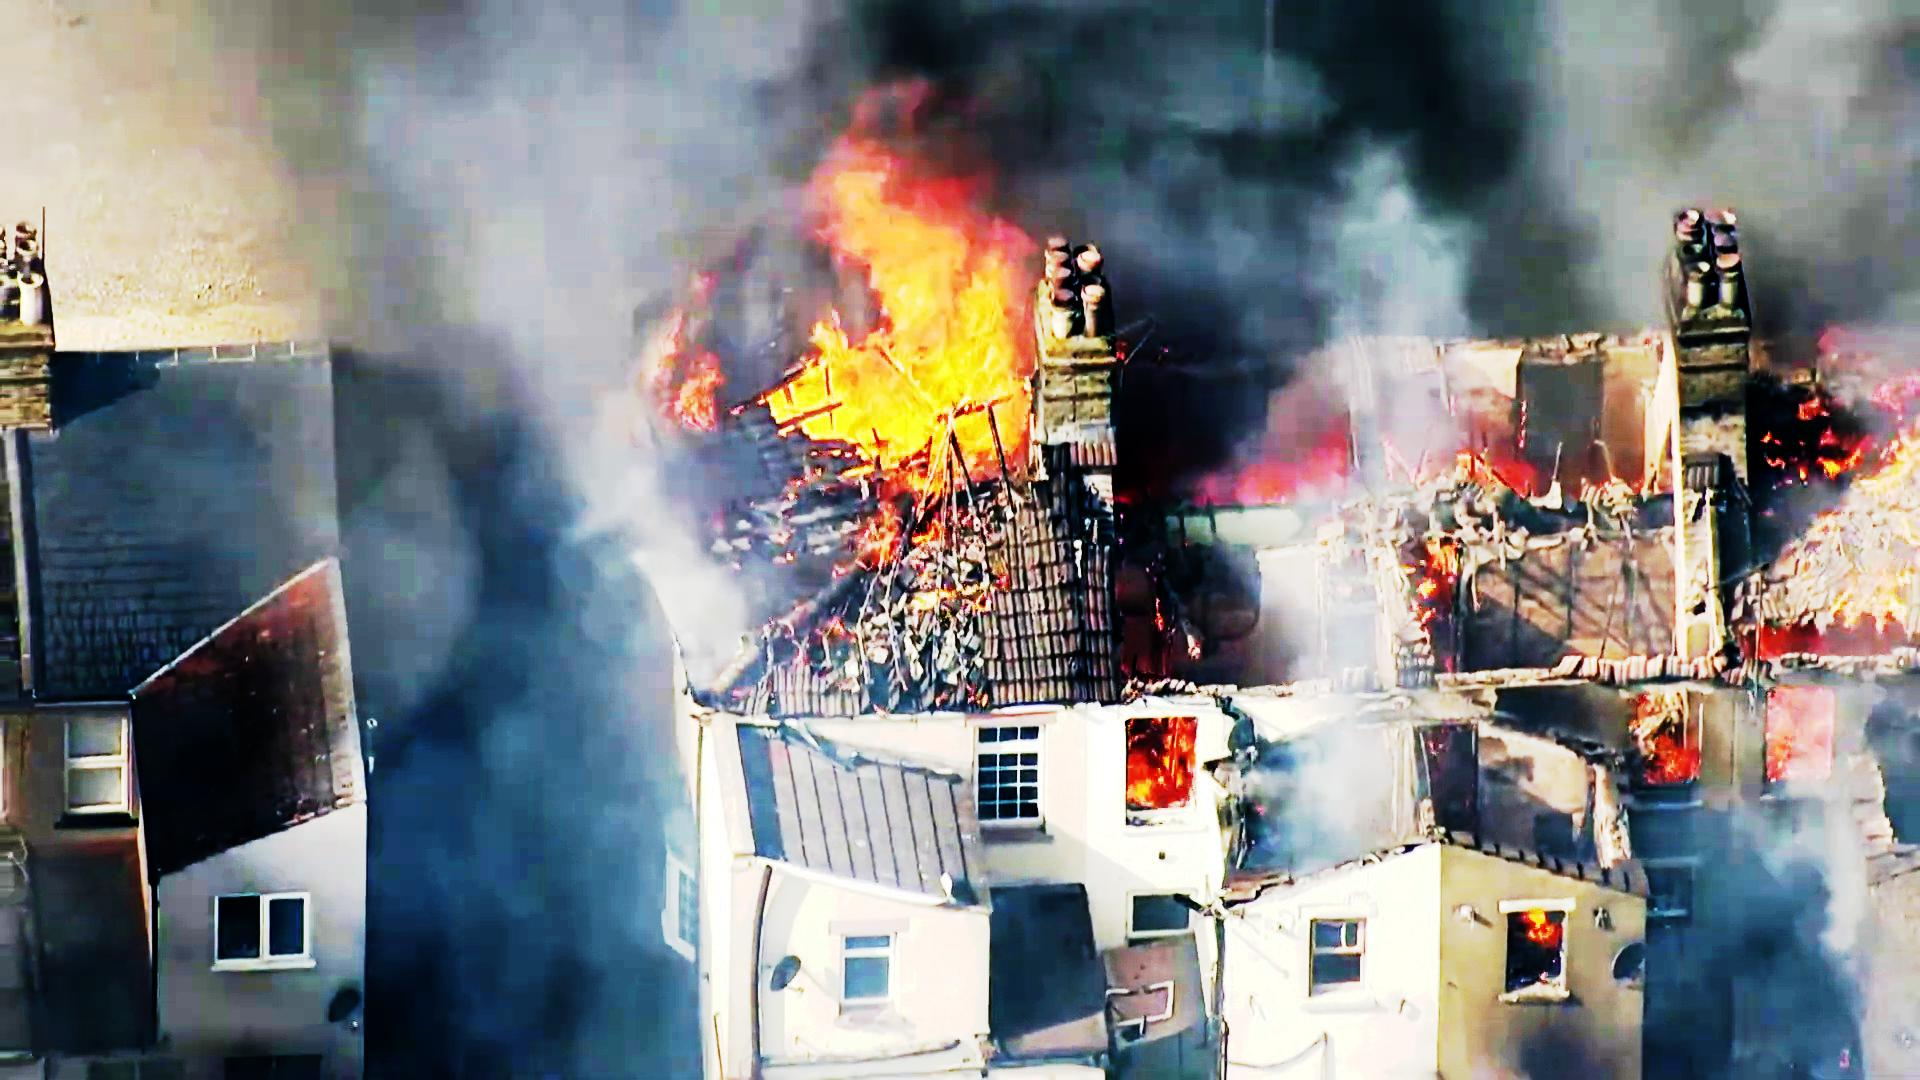fire: (741, 138, 1114, 505), (1775, 415, 1912, 650)
smoke: (1266, 0, 1920, 295)
